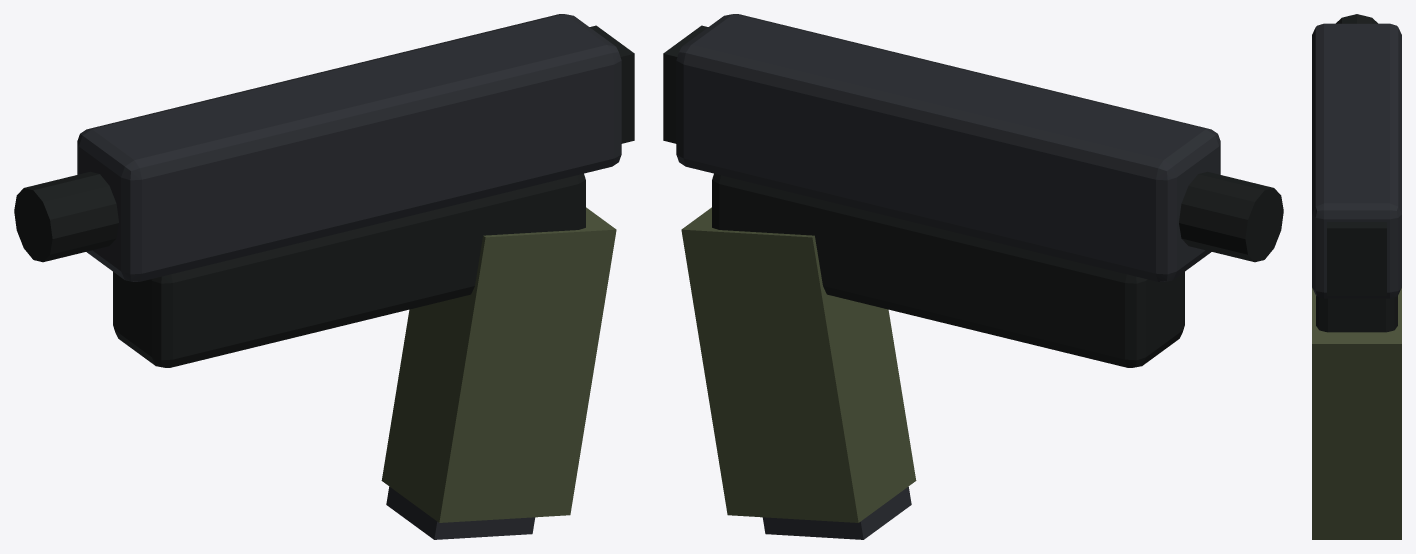
Rendered from Pistol.obj.
3 views of the same model, side by side, from view 1: azimuth 30°, elevation 25°; view 2: azimuth 150°, elevation 25°; view 3: azimuth 270°, elevation 25° (orthographic). The views are drawn at different scales.
Visible parts, largest first — view 1: Pistol_Slide, Pistol_GripPanel, Pistol_Frame, Pistol_Muzzle, Pistol_Magazine, Pistol_Hammer; view 2: Pistol_Slide, Pistol_GripPanel, Pistol_Frame, Pistol_Muzzle, Pistol_Magazine, Pistol_Hammer; view 3: Pistol_Slide, Pistol_GripPanel, Pistol_Hammer, Pistol_Frame, Pistol_Muzzle.
Part boxes in pixels (x1=…): Pistol_Slide: x1=77, y1=14, x2=621, y2=281; Pistol_GripPanel: x1=381, y1=207, x2=616, y2=522; Pistol_Frame: x1=113, y1=173, x2=585, y2=367; Pistol_Muzzle: x1=14, y1=171, x2=118, y2=262; Pistol_Magazine: x1=386, y1=486, x2=535, y2=539; Pistol_Hammer: x1=590, y1=25, x2=634, y2=143; Pistol_Slide: x1=676, y1=14, x2=1220, y2=281; Pistol_GripPanel: x1=681, y1=207, x2=916, y2=522; Pistol_Frame: x1=712, y1=173, x2=1184, y2=367; Pistol_Muzzle: x1=1179, y1=171, x2=1283, y2=262; Pistol_Magazine: x1=762, y1=486, x2=911, y2=539; Pistol_Hammer: x1=663, y1=25, x2=707, y2=143; Pistol_Slide: x1=1312, y1=23, x2=1401, y2=298; Pistol_GripPanel: x1=1312, y1=288, x2=1401, y2=539; Pistol_Hammer: x1=1327, y1=222, x2=1386, y2=295; Pistol_Frame: x1=1316, y1=296, x2=1397, y2=332; Pistol_Muzzle: x1=1336, y1=14, x2=1377, y2=23.
Size of the model in its own units: 0.35 by 0.269 by 0.06.
